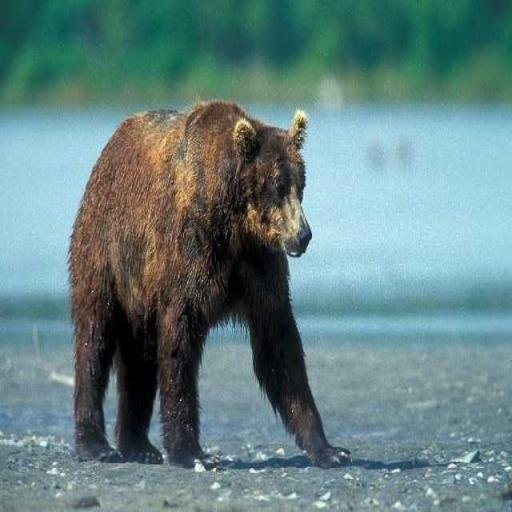Bear: (66, 98, 352, 470)
